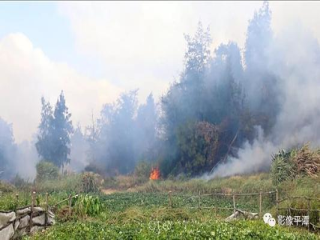fire: (149, 168, 164, 184)
smoke: (201, 47, 317, 184), (39, 74, 165, 165)
